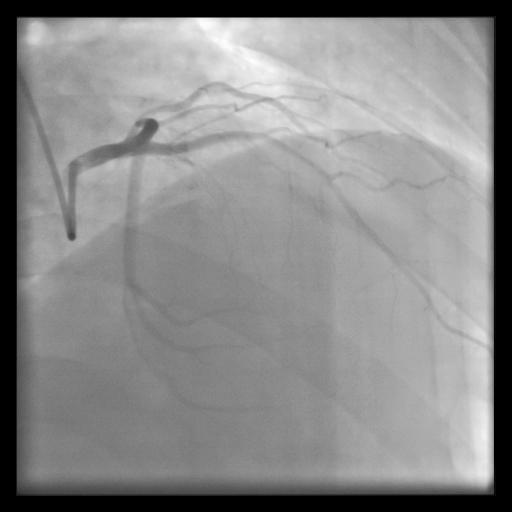Stenosis: (134, 98, 183, 116)
